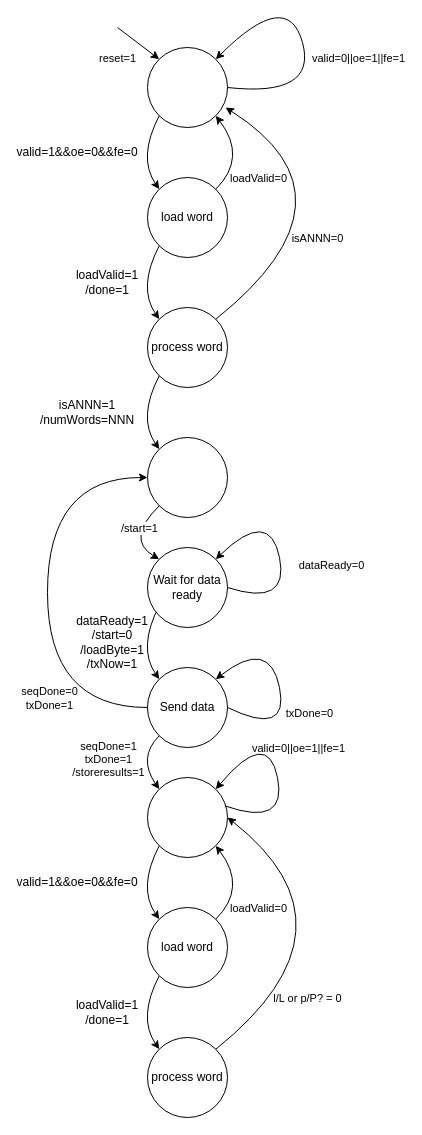
The diagram is 422 pixels wide and 1135 high, and some of its shapes have lost their labels. Here are the shapes that lost their labels. From the top down, the centre of each, then its label:
(187,87): init
(187,477): start data processing
(187,817): Wait for next word
